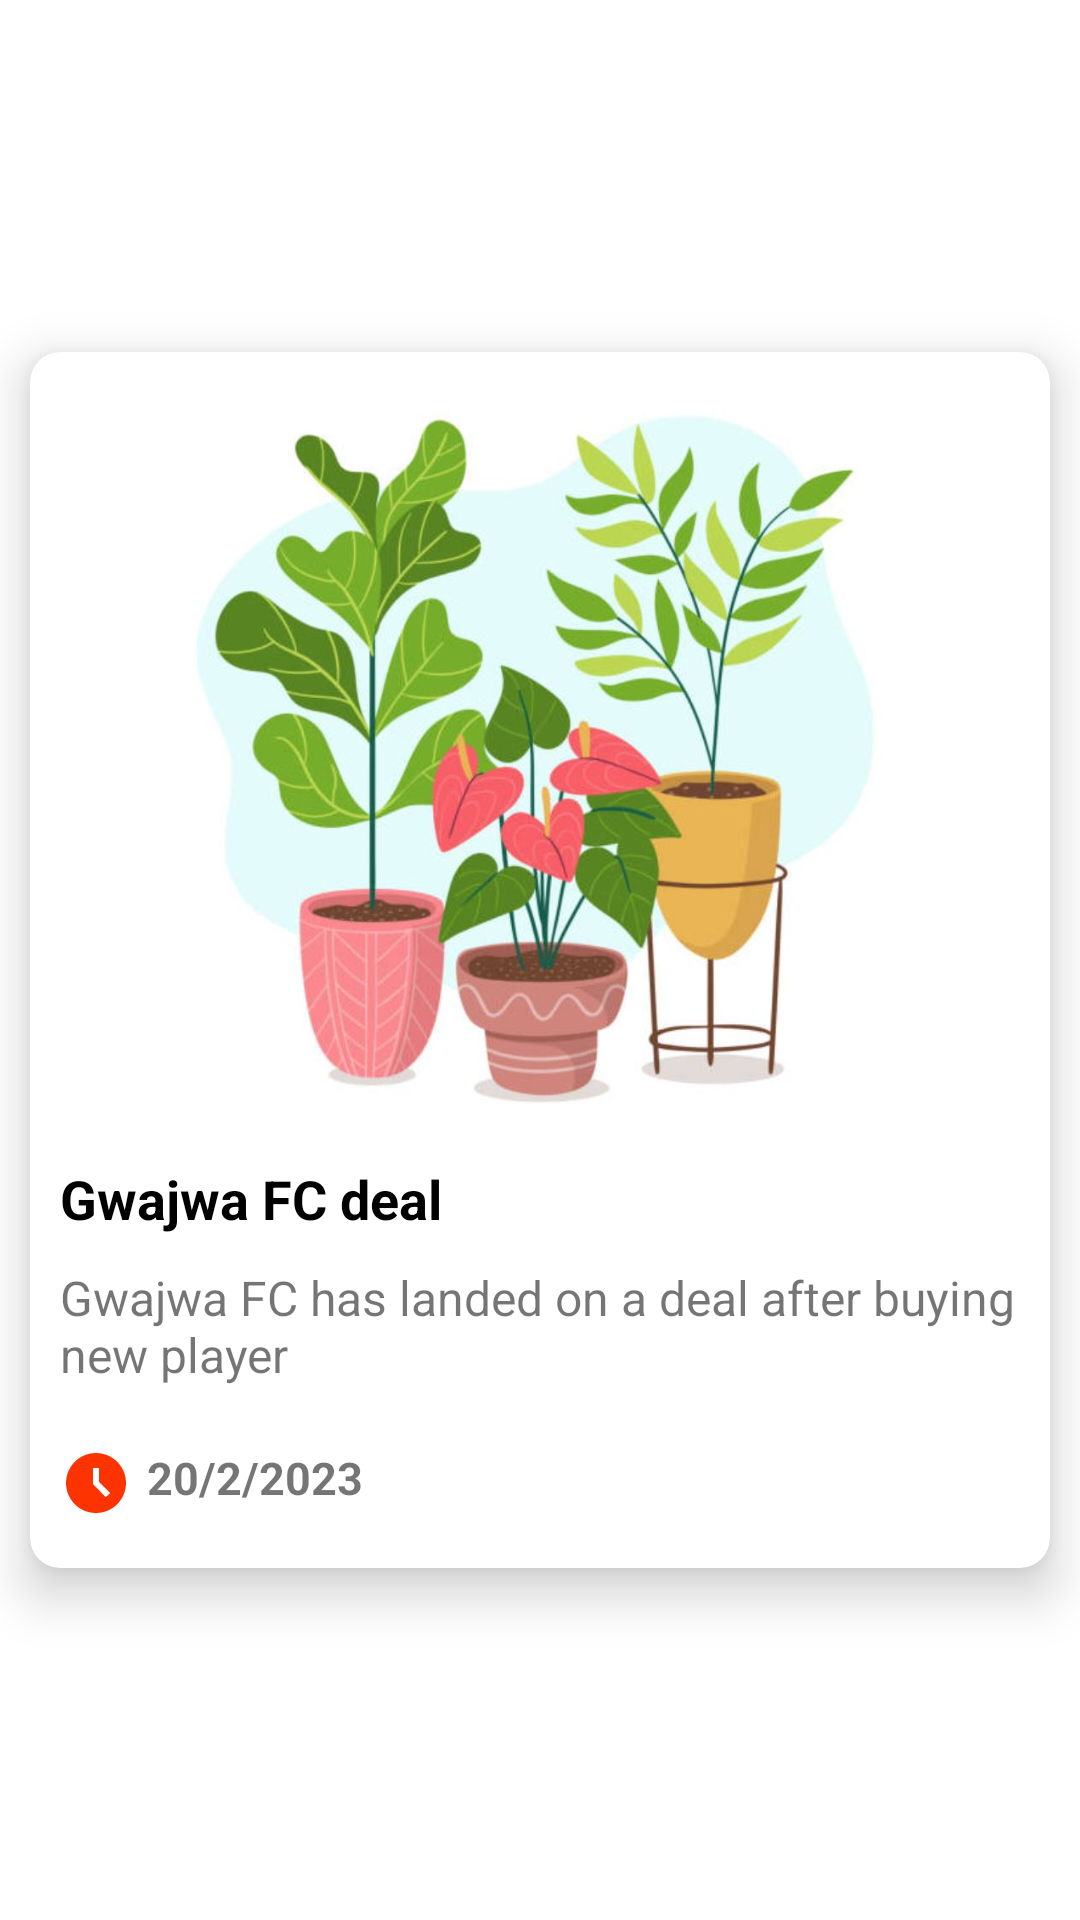

Where icons sit on this 1080w x 1920h app screen, as (x1, y1, x2, y2):
access time: (66, 1453, 126, 1513)
